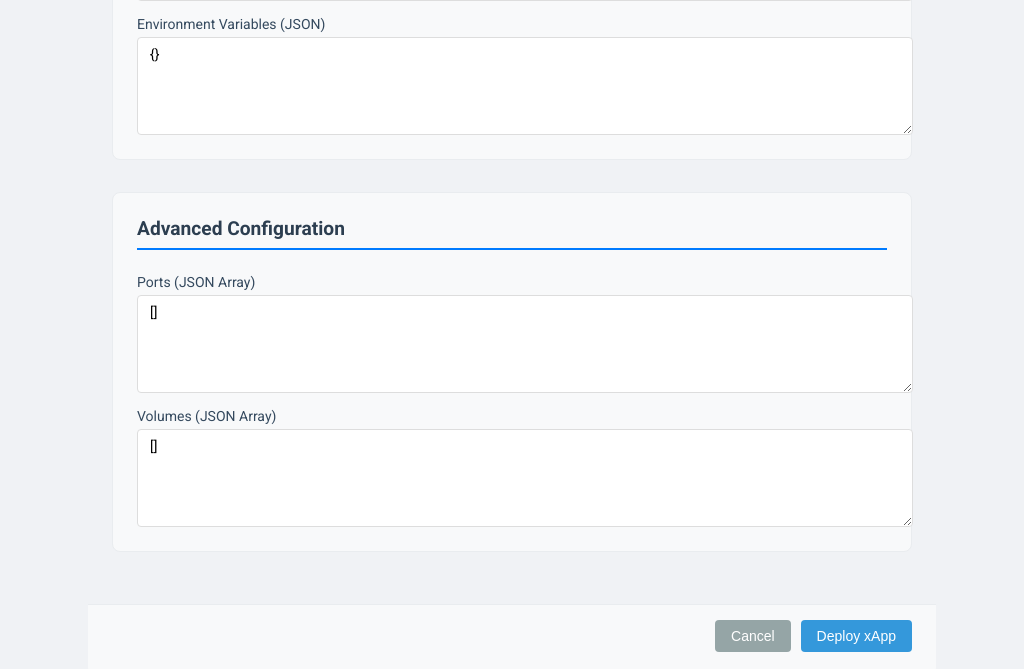
XAppDeploymentForm › clears validation errors when input changes
This screenshot has width=1024, height=669.
(page scrolled)
# Trigger validation error
Click the button "Deploy xApp".
click(856, 636)  # box [801,620,912,652]
(page scrolled)
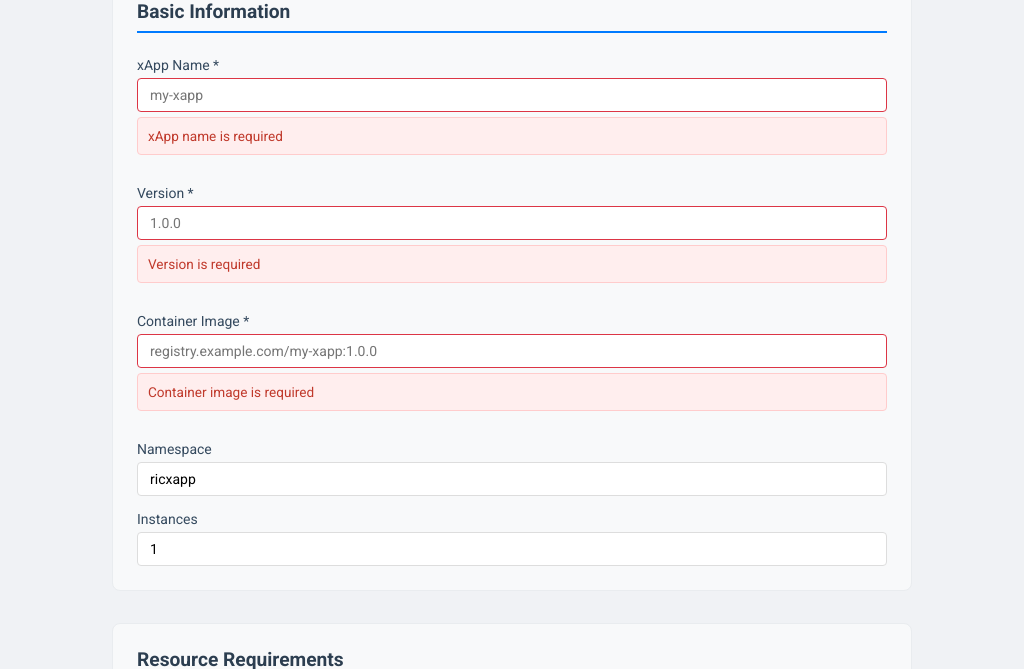
Now the text "xApp name is required" is shown, box [137,117,887,155]
# Fix the error
Type "test-xapp" into the field labelled "xApp Name *".
click(512, 95); type("test-xapp")  # box [137,78,887,112]
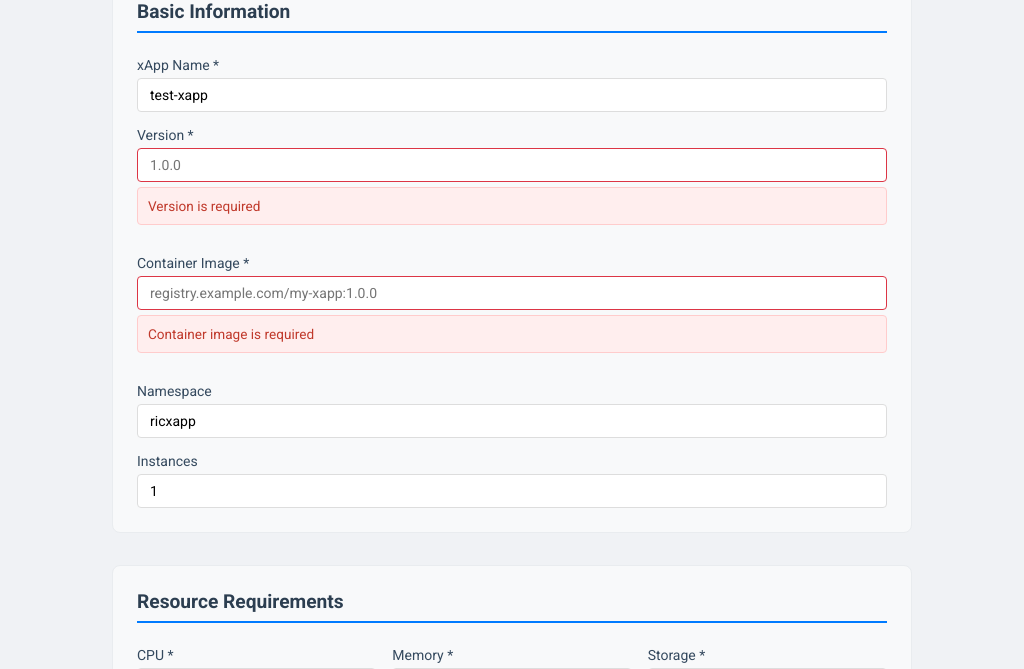
Now the text "xApp name is required" is gone
